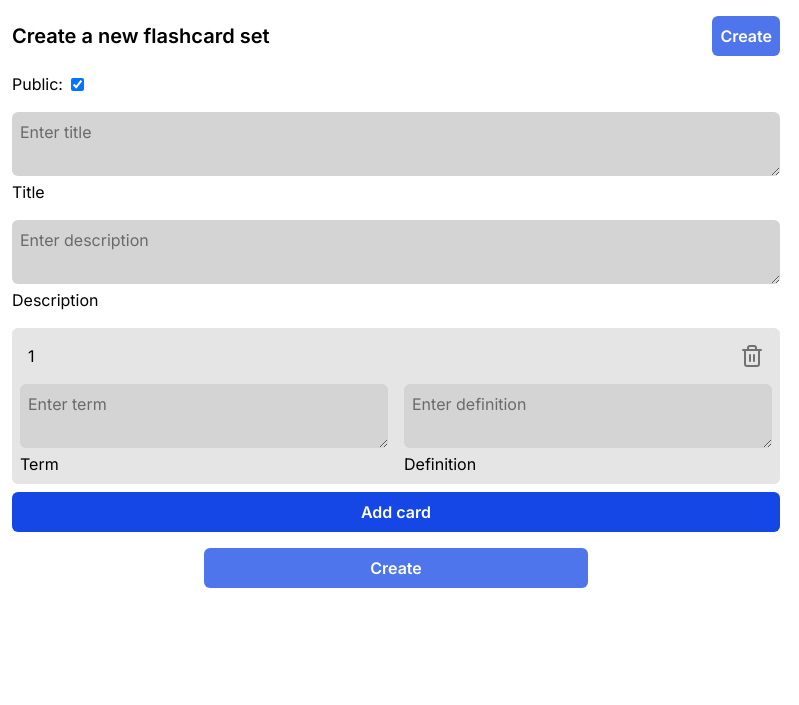
Scenario: FlashcardSetForm › allows adding and removing flashcards dynamically
expect the number of text boxes labelled "Term" is 1: met, box [20, 384, 388, 448]
Click the button "Add card": coordinates (396, 512) [12, 492, 780, 532]
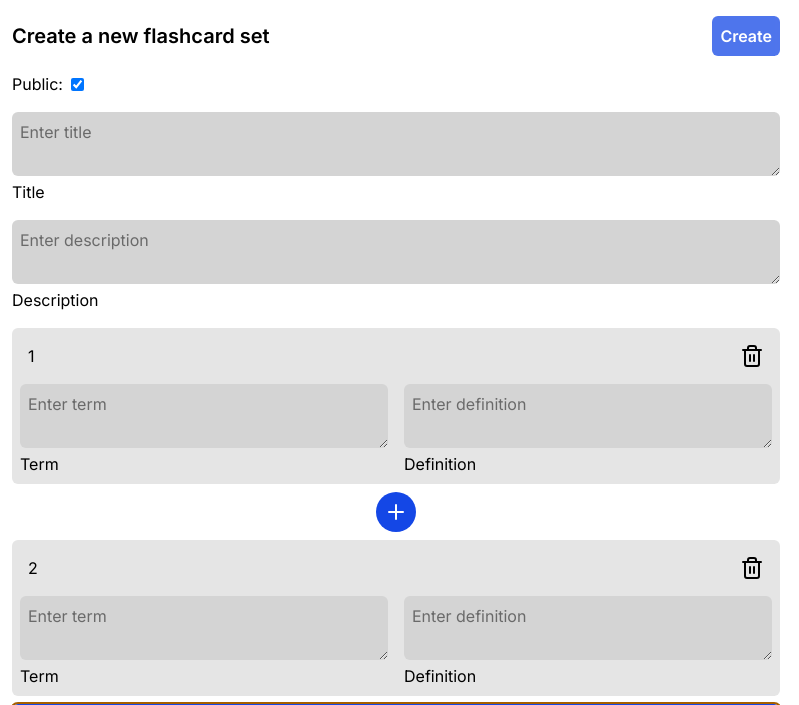
expect the number of text boxes labelled "Term" is 2: met, box [20, 384, 388, 448]; [20, 596, 388, 660]
Click the button named "add flashcard": coordinates (396, 512) [376, 492, 416, 532]
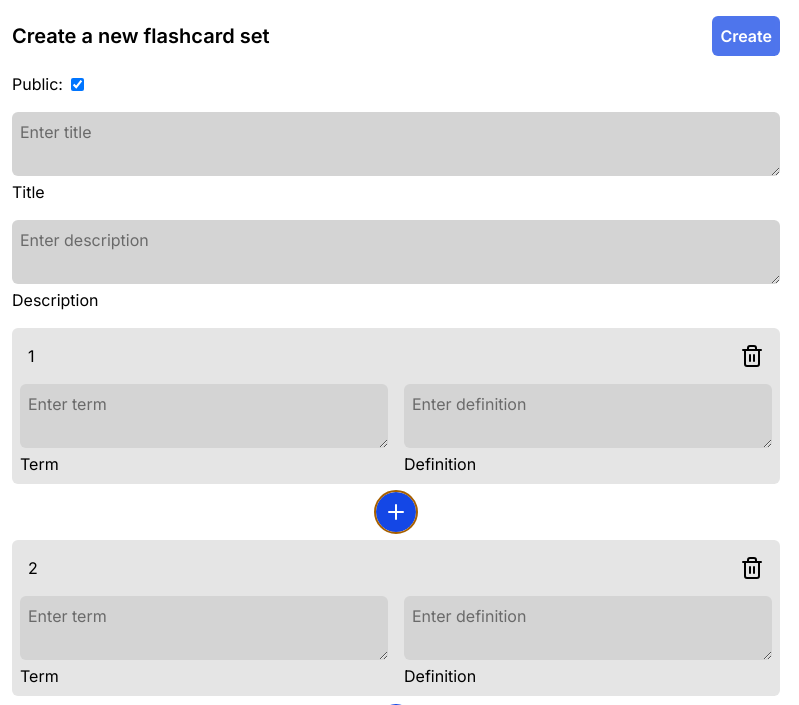
expect the number of text boxes labelled "Term" is 3: met
Click the 1st button named "delete card": coordinates (752, 356) [740, 344, 764, 368]
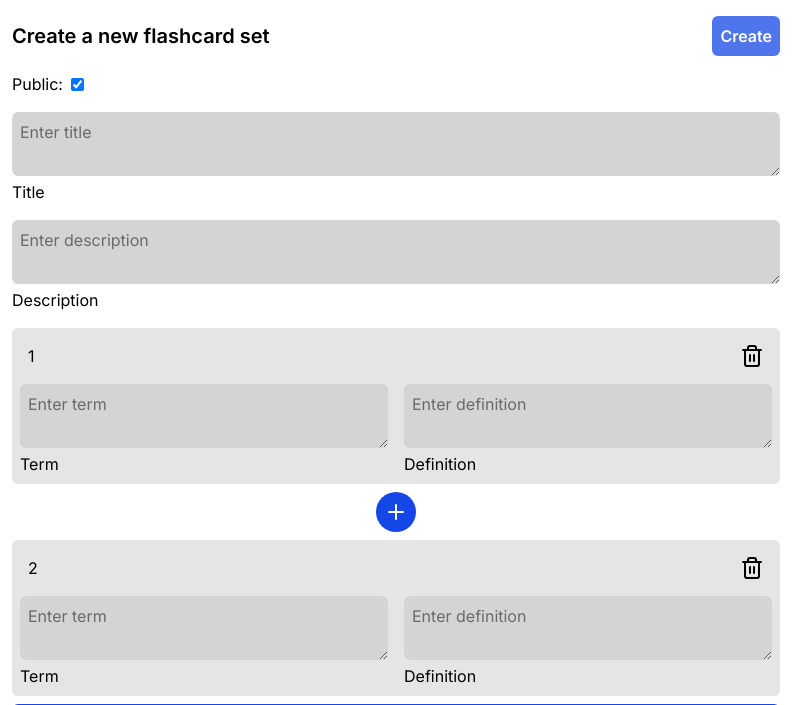
expect the number of text boxes labelled "Term" is 2: met, box [20, 384, 388, 448]; [20, 596, 388, 660]
